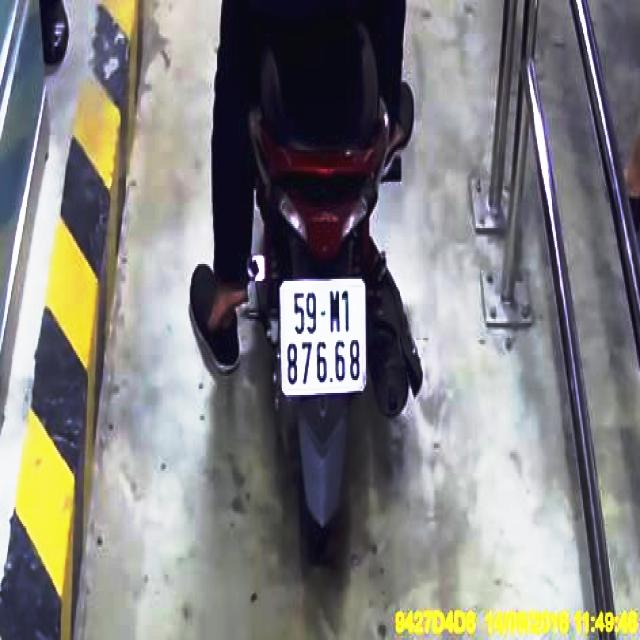license_plate: (280, 279, 371, 392)
